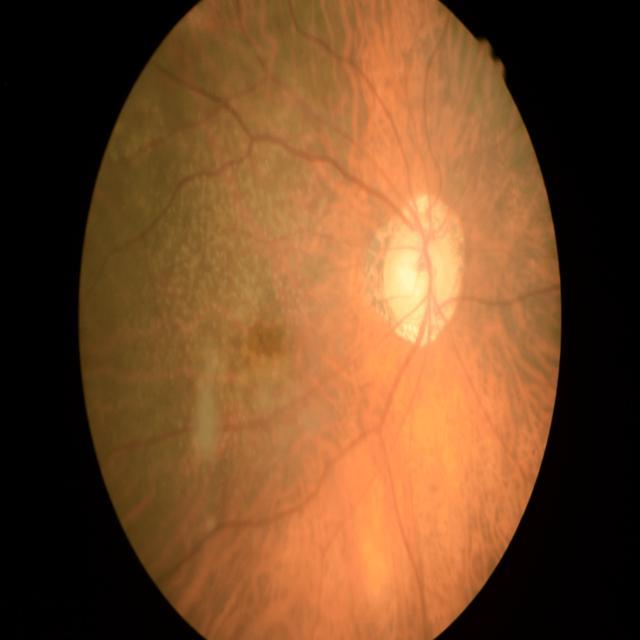cup: (408, 230, 447, 316)
disk: (380, 194, 467, 346)
